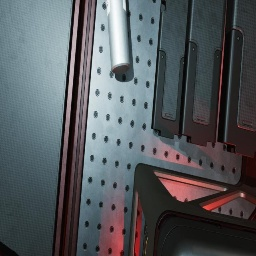0: (106, 0, 130, 74)
NitrogenTank ,: (0, 250, 8, 256)
